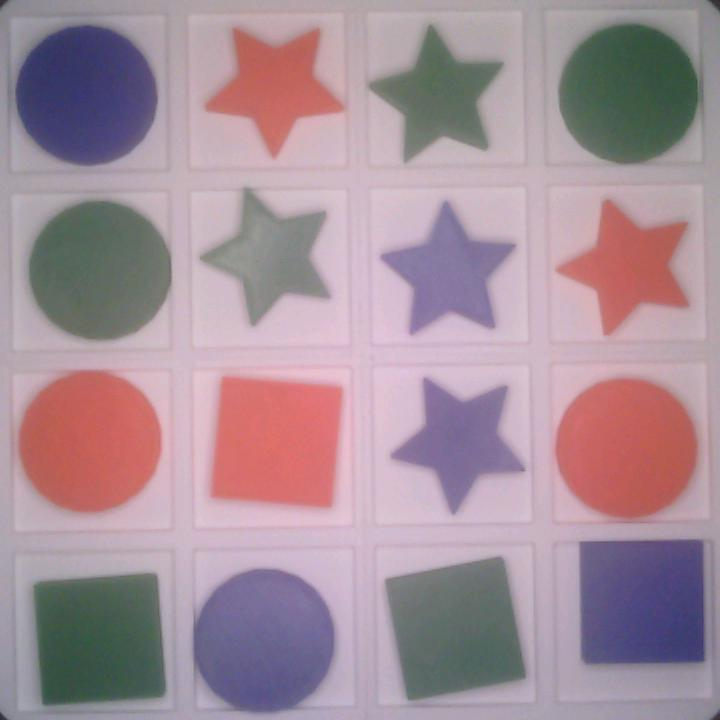Blue circle: (17, 23, 159, 166), (193, 571, 335, 709)
Blue square: (577, 540, 707, 667)
Blue star: (391, 376, 520, 515), (382, 201, 514, 334)
Green circle: (28, 201, 171, 341), (557, 25, 700, 163)
Green square: (382, 557, 530, 699), (35, 569, 167, 707)
Green star: (195, 187, 332, 328), (372, 26, 506, 162)
Orange circle: (18, 371, 161, 512), (554, 379, 696, 518)
Orange square: (206, 378, 343, 512)
Orange star: (555, 195, 694, 334), (205, 24, 337, 155)
